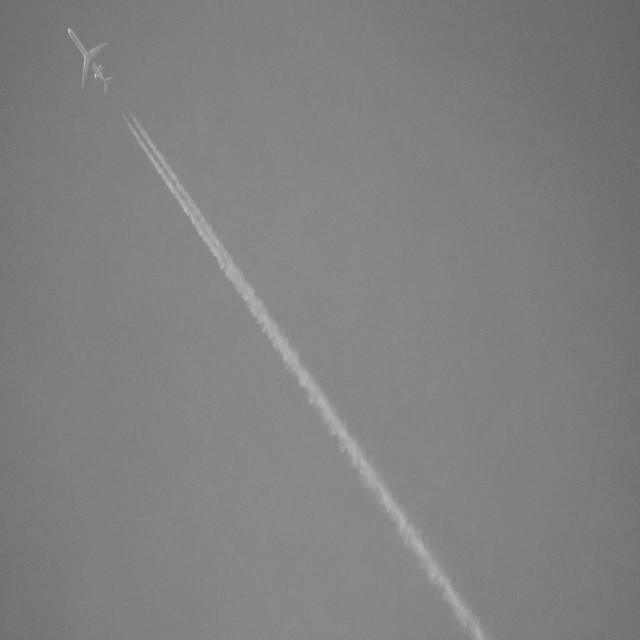aeroplane: (67, 26, 116, 100)
